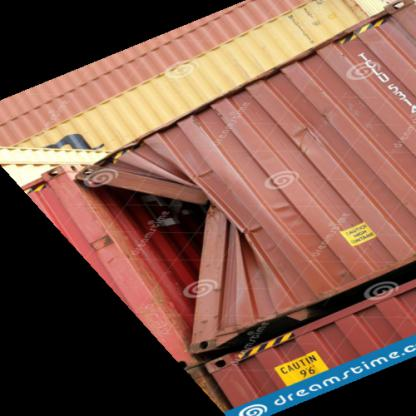Damage: (75, 138, 282, 336)
